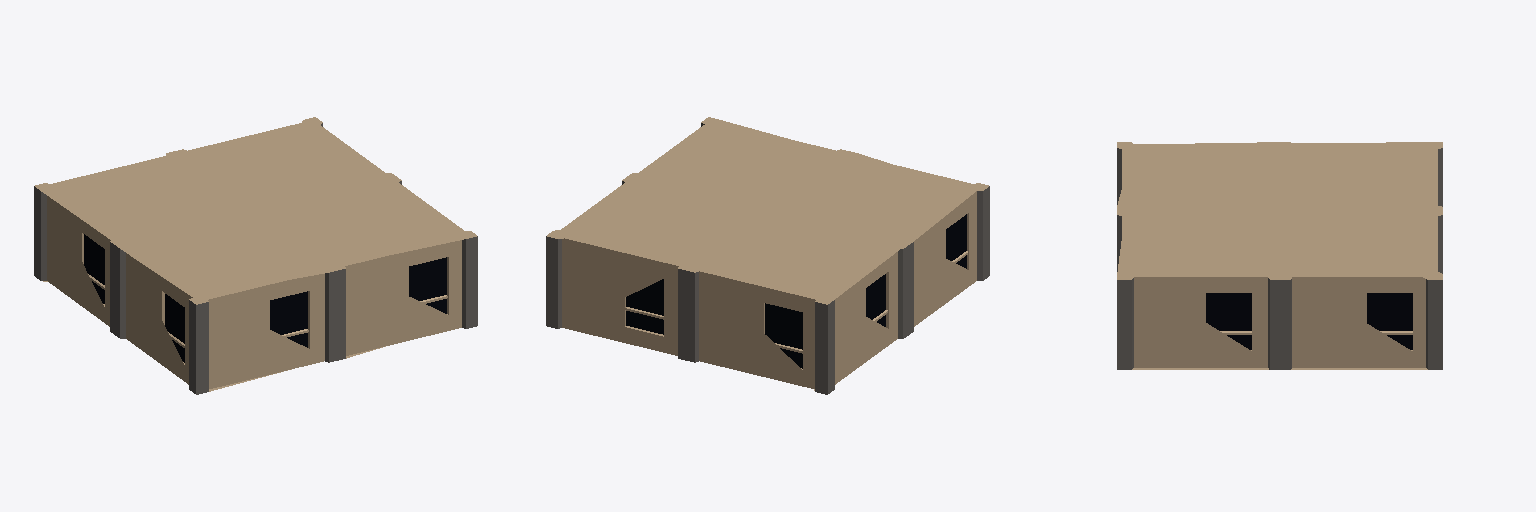
File: buildingB2.obj
The picture shows the model from 3 angles: view 1: azimuth 30°, elevation 25°; view 2: azimuth 150°, elevation 25°; view 3: azimuth 270°, elevation 25°; orthographic projection.
Visible parts, largest first — view 1: Cube; view 2: Cube; view 3: Cube.
Part boxes in pixels (x1,y1,x2,y2): Cube: (34,117,477,394); Cube: (546,117,989,394); Cube: (1117,142,1442,369).
Size of the model in its own units: 9 by 2.75 by 9.02.